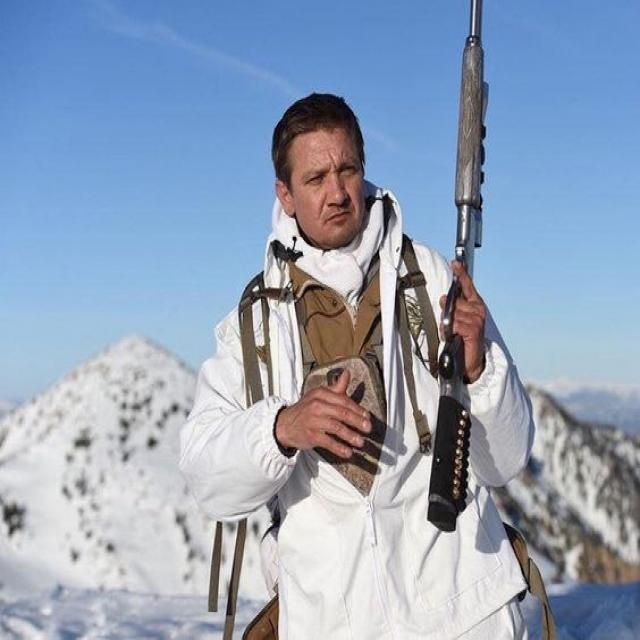shotgun: (425, 0, 510, 579)
